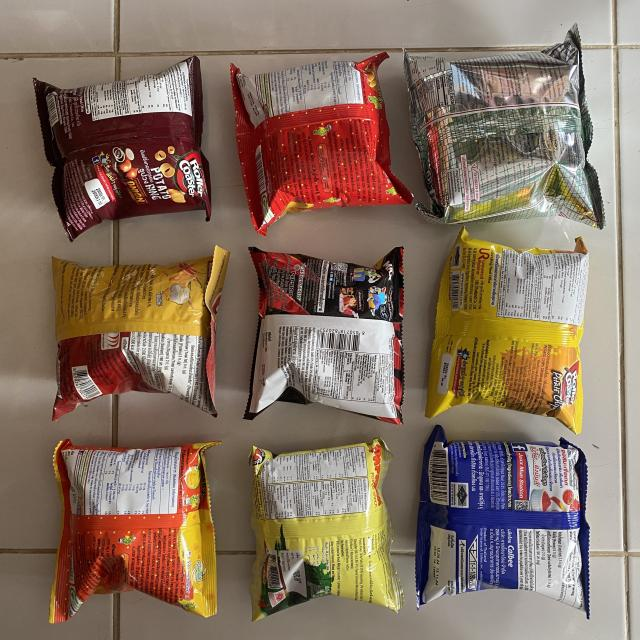plastik: (404, 25, 604, 228), (425, 229, 589, 434), (416, 425, 590, 616), (231, 52, 412, 235), (34, 56, 211, 240), (50, 440, 219, 622), (52, 248, 229, 420), (250, 438, 404, 620), (245, 248, 404, 424)
